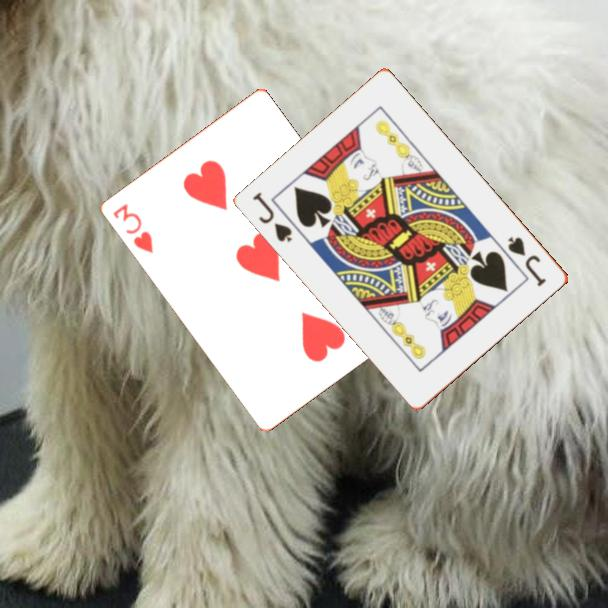h03: (109, 200, 156, 256)
s11: (505, 232, 550, 290), (250, 189, 296, 245)
